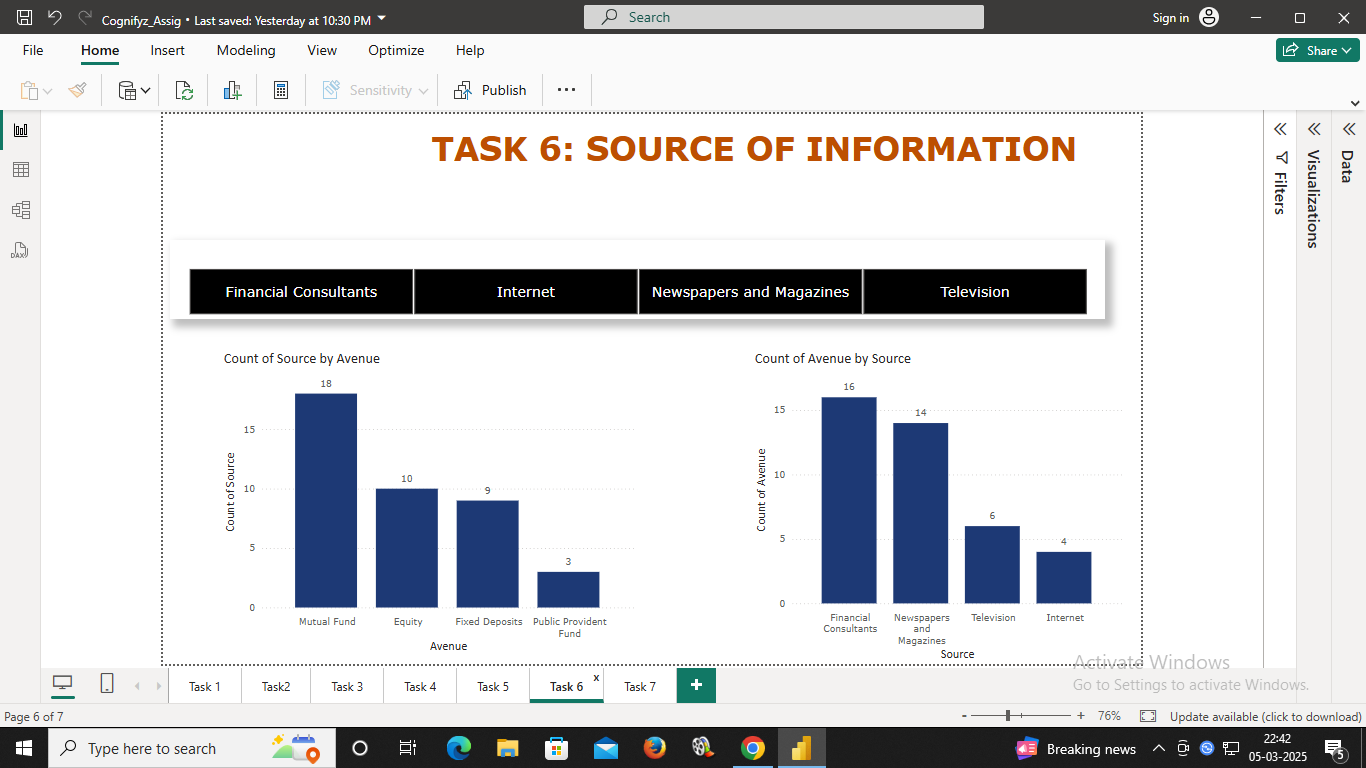

What the dashboard file says about the page in this screenshot:
{"tool":"powerbi","page":{"name":"Task 6","canvas":[1280,720],"ordinal":5},"visuals":[{"type":"textbox","box":[9.6,13.7,1270.7,71.4],"z":0},{"type":"clusteredColumnChart","fields":{"Category":["Data_set 2.Avenue"],"Y":["CountNonNull(Data_set 2.Source)"]},"box":[74.1,307.4,547.5,403.4],"z":1000},{"type":"clusteredColumnChart","fields":{"Y":["CountNonNull(Data_set 2.Avenue)"],"Category":["Data_set 2.Source"]},"box":[769.8,307.4,491.3,413],"z":2000},{"type":"slicer","title":"Source","fields":{"Values":["Data_set 2.Source"]},"box":[9.6,164.7,1224,104.3],"z":3000}]}

Visuals, with their boxes on the page's 1280x720 design canvas (x1, y1, x2, y2). These are canvas units, not pixel positions in the 1366x768 screenshot, which may show the page scaled, cropped or inside an application window:
textbox: [10,14,1280,85]
clusteredColumnChart - Data_set 2.Avenue x CountNonNull(Data_set 2.Source): [74,307,622,711]
clusteredColumnChart - CountNonNull(Data_set 2.Avenue) x Data_set 2.Source: [770,307,1261,720]
"Source" slicer: [10,165,1234,269]
